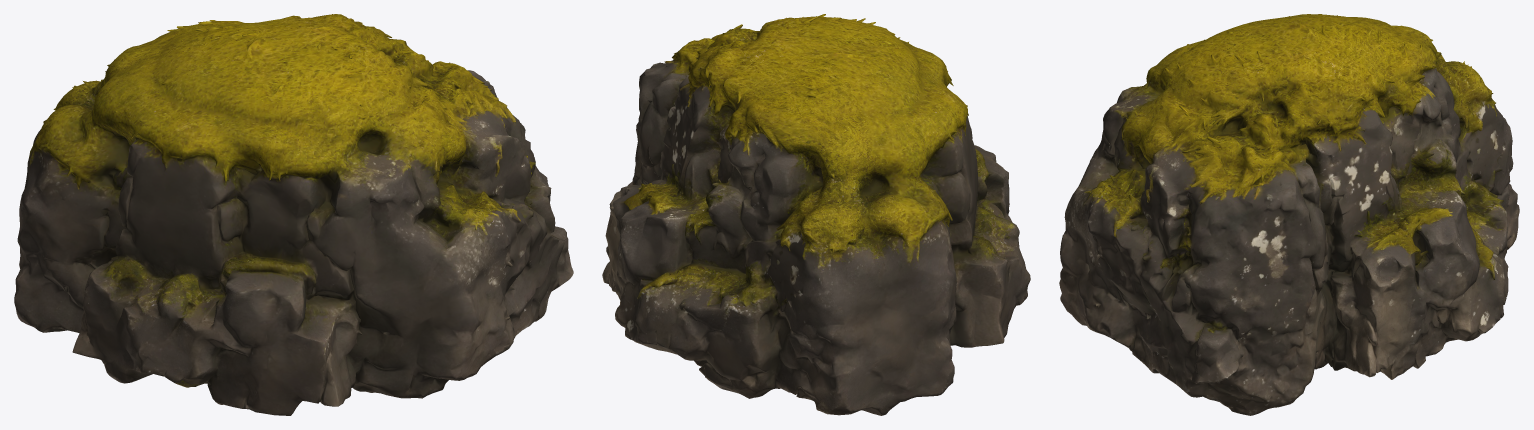
3 views of the same model, side by side, from view 1: azimuth 30°, elevation 25°; view 2: azimuth 150°, elevation 25°; view 3: azimuth 270°, elevation 25° (orthographic). The views are drawn at different scales.
Visible parts, largest first — view 1: tripo_node_a7d8f7d2-961c-44f5-908c-14ef82e8b654; view 2: tripo_node_a7d8f7d2-961c-44f5-908c-14ef82e8b654; view 3: tripo_node_a7d8f7d2-961c-44f5-908c-14ef82e8b654.
Boxes of the visible parts, box(x1,y1,x2,y2) form: tripo_node_a7d8f7d2-961c-44f5-908c-14ef82e8b654: box(14, 14, 573, 415); tripo_node_a7d8f7d2-961c-44f5-908c-14ef82e8b654: box(602, 14, 1030, 415); tripo_node_a7d8f7d2-961c-44f5-908c-14ef82e8b654: box(1059, 14, 1519, 415).
Bounding box in the file's own units: 1 × 0.6575 × 0.9398.
Materials: 1 (1 with a texture image).
